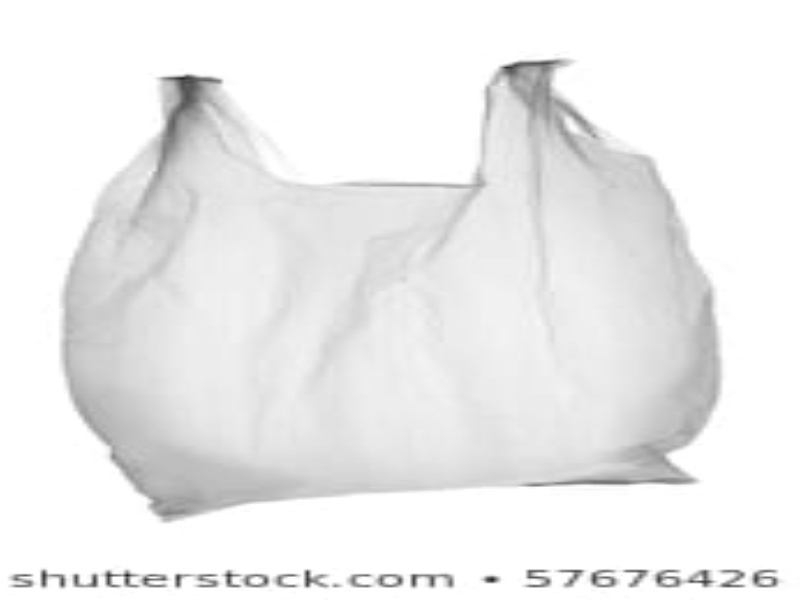plastic-bag: (61, 56, 723, 521)
